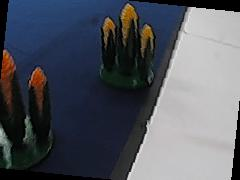corn: (0, 50, 56, 162), (94, 0, 158, 87)
